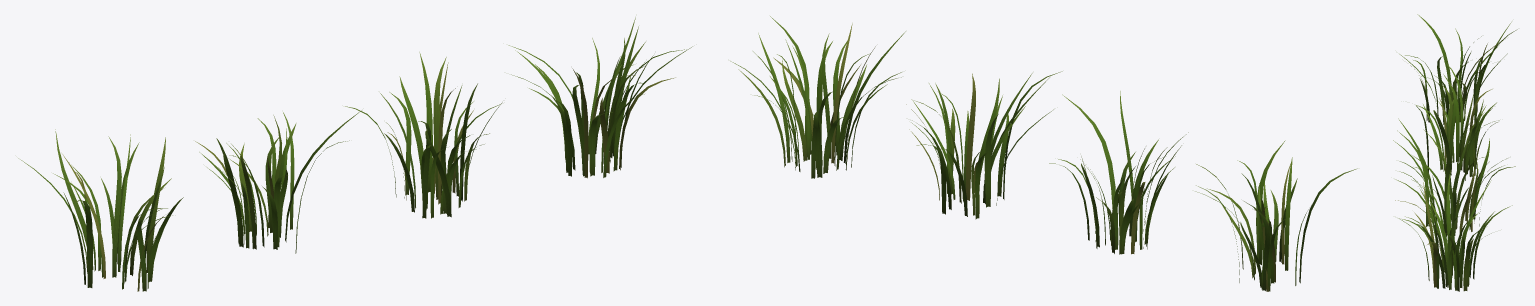
Rendered from grass_medium_lod0.glb.
3 views of the same model, side by side, from view 1: azimuth 30°, elevation 25°; view 2: azimuth 150°, elevation 25°; view 3: azimuth 270°, elevation 25° (orthographic). The views are drawn at different scales.
Parts seen in each view (by area): view 1: Grass_medium_03_LOD0, Grass_medium_01_LOD0, Grass_medium_04_LOD0, Grass_medium_02_LOD0; view 2: Grass_medium_04_LOD0, Grass_medium_03_LOD0, Grass_medium_02_LOD0, Grass_medium_01_LOD0; view 3: Grass_medium_04_LOD0, Grass_medium_02_LOD0, Grass_medium_03_LOD0, Grass_medium_01_LOD0.
Part boxes in pixels (bbox=[...]): Grass_medium_03_LOD0: bbox=[345, 52, 502, 218]; Grass_medium_01_LOD0: bbox=[18, 129, 183, 291]; Grass_medium_04_LOD0: bbox=[508, 17, 692, 178]; Grass_medium_02_LOD0: bbox=[195, 110, 361, 253]; Grass_medium_04_LOD0: bbox=[730, 16, 905, 178]; Grass_medium_03_LOD0: bbox=[906, 71, 1062, 219]; Grass_medium_02_LOD0: bbox=[1049, 91, 1188, 254]; Grass_medium_01_LOD0: bbox=[1195, 140, 1357, 291]; Grass_medium_04_LOD0: bbox=[1395, 170, 1512, 291]; Grass_medium_02_LOD0: bbox=[1416, 61, 1499, 180]; Grass_medium_03_LOD0: bbox=[1393, 118, 1515, 236]; Grass_medium_01_LOD0: bbox=[1399, 14, 1517, 124].
Bounding box in the file's own units: 3.36 × 0.6477 × 0.8665.
Materials: 1 (1 with a texture image).
